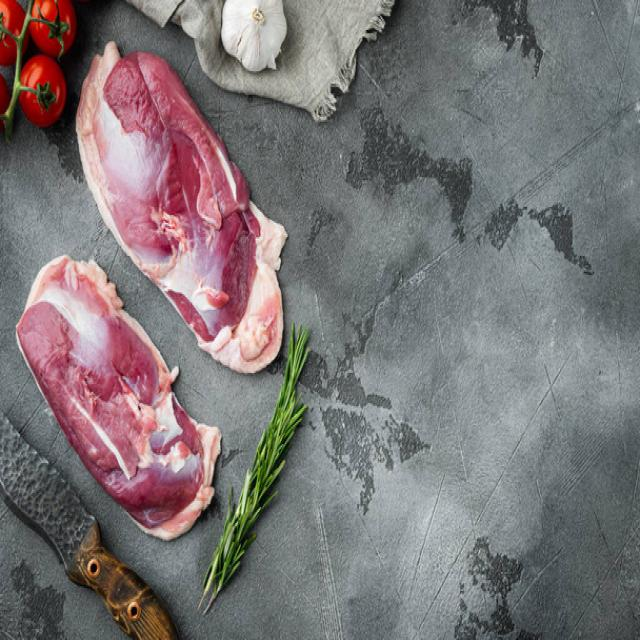duck: (76, 41, 285, 371), (18, 257, 220, 538)
